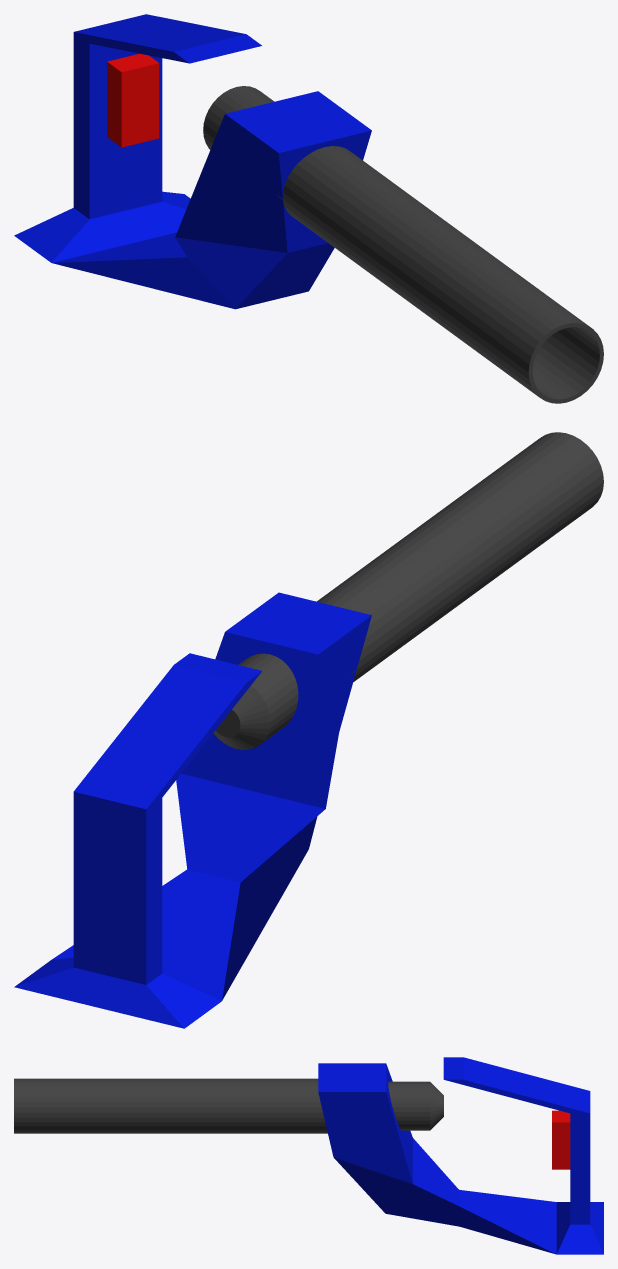
File: Weapon1-pistol.fbx
3 renders of one model, top to bottom at view 1: azimuth 30°, elevation 25°; view 2: azimuth 150°, elevation 25°; view 3: azimuth 270°, elevation 25°, orthographic. The views are drawn at different scales.
Parts seen in each view (by area): view 1: Cylinder, Cube.001; view 2: Cylinder; view 3: Cylinder, Cube.001.
Part boxes in pixels (box(x1,y1,x2,y2)): Cylinder: box(14, 14, 603, 403); Cube.001: box(107, 53, 159, 147); Cylinder: box(14, 432, 603, 1028); Cylinder: box(14, 1057, 603, 1254); Cube.001: box(552, 1110, 570, 1169).
Bounding box in the file's own units: 54.29 × 77 × 258.
